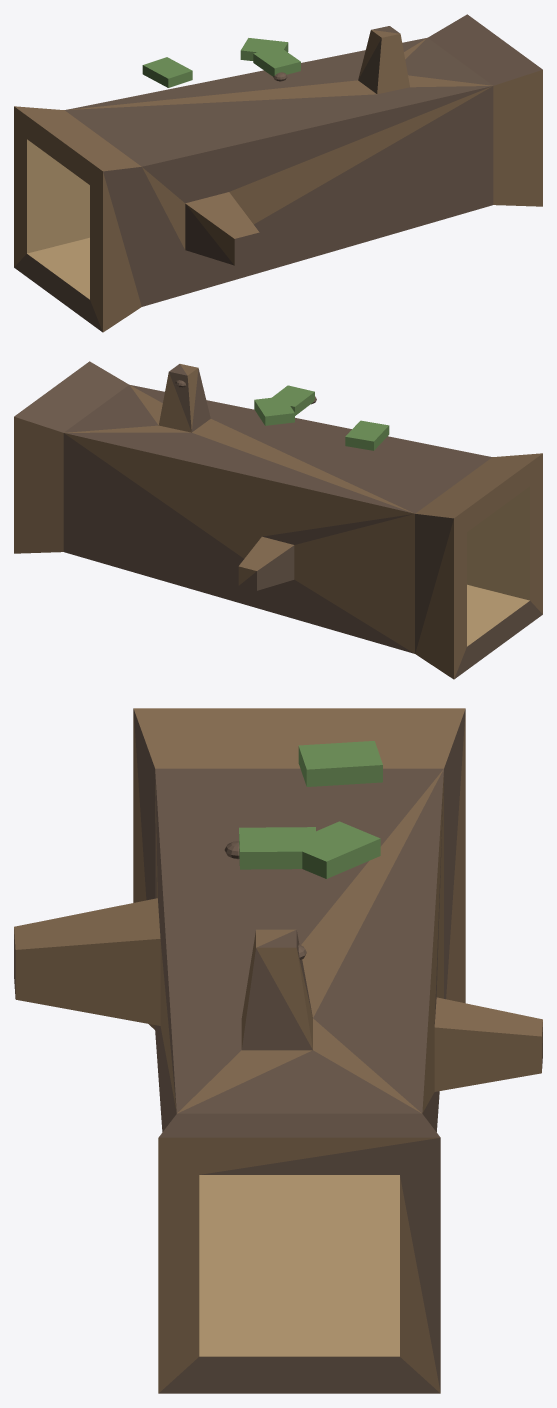
The model's file is log_large.glb.
3 renders of one model, top to bottom at view 1: azimuth 30°, elevation 25°; view 2: azimuth 150°, elevation 25°; view 3: azimuth 270°, elevation 25°, orthographic. The views are drawn at different scales.
Visible parts, largest first — view 1: log_large; view 2: log_large; view 3: log_large.
Boxes of the visible parts, x1,y1,x2,y2 form: log_large: (14,14,542,332); log_large: (14,361,542,679); log_large: (14,708,542,1393).
Size of the model in its own units: 1 by 0.4167 by 0.5493.
